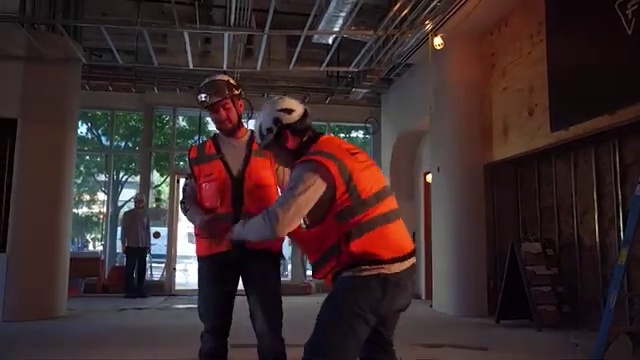helmet: (257, 91, 305, 134), (194, 72, 244, 103)
jacket: (293, 121, 416, 305), (188, 130, 275, 260)
